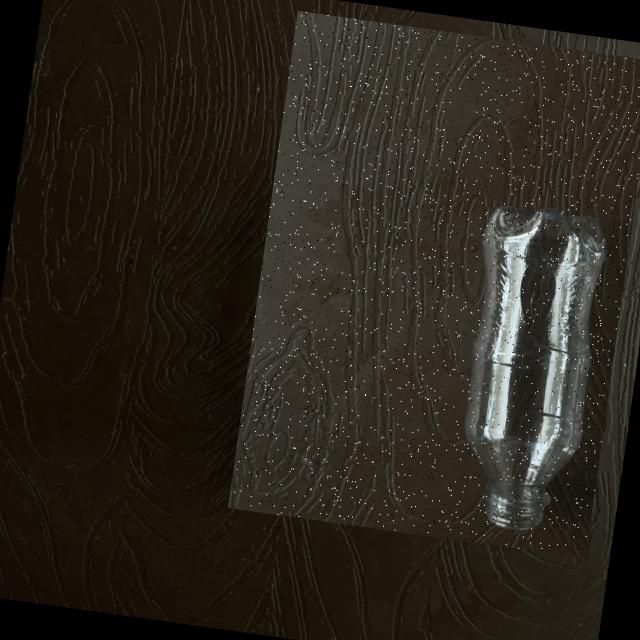PET_ClearBottle: (227, 9, 640, 556)
